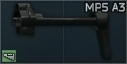MP5 A3 old model stock: (0, 0, 127, 64)
